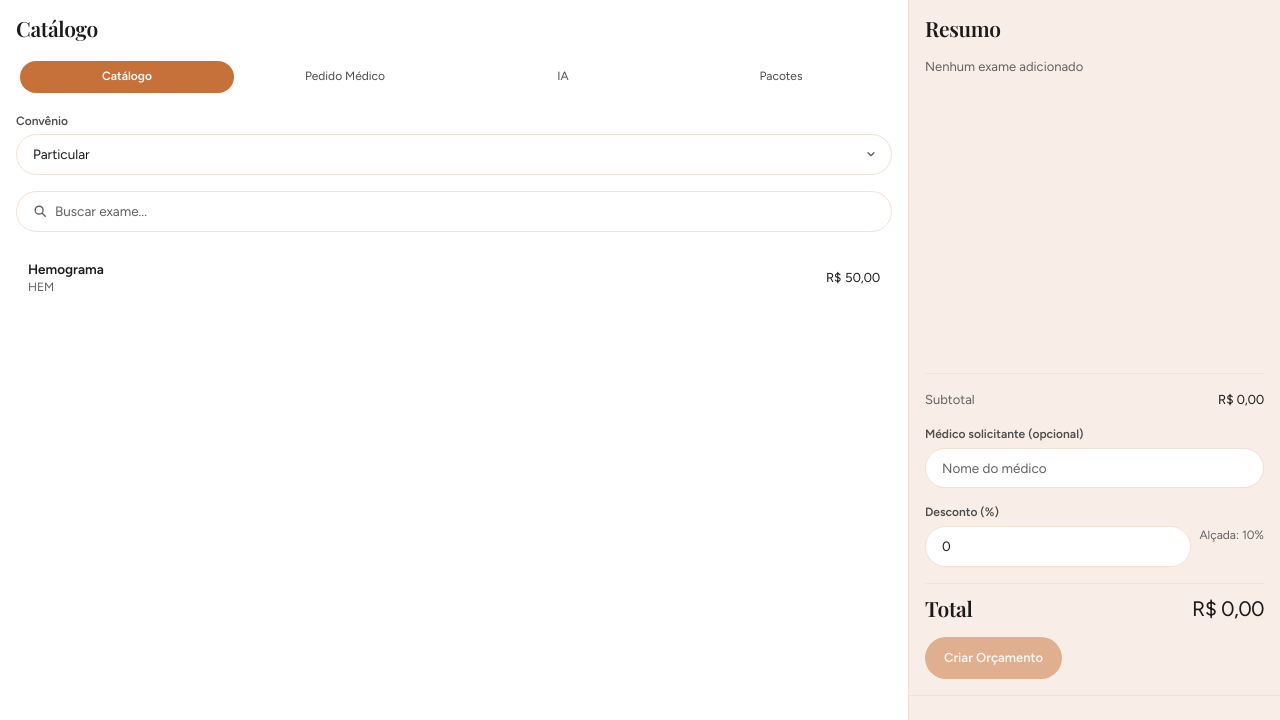
Test: BudgetNew › adicionar um pacote expande em N linhas no resumo — uma por exame incluído
What coordinates should you click on to do the following:
click the tab "Pacotes"
I would click on:
 (781, 77)
Its box is [674,61,888,93].
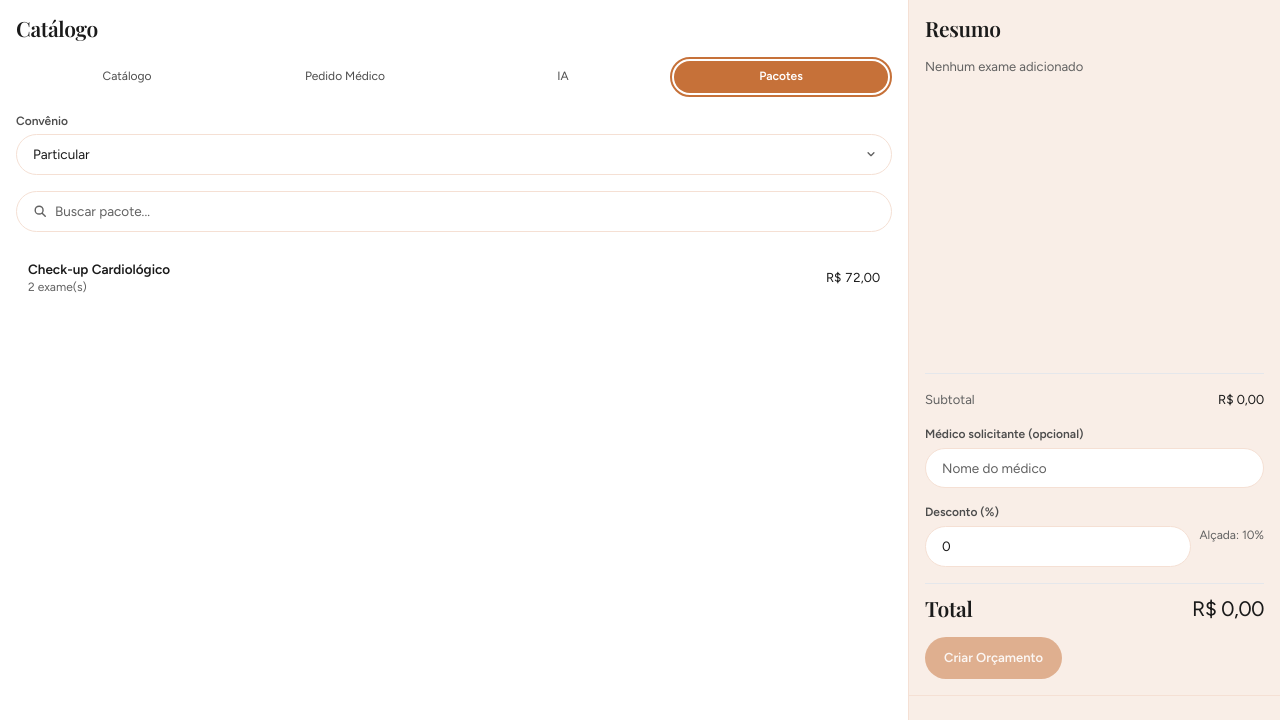
What coordinates should you click on to do the following:
click the button "Check-up Cardiológico 2 exame(s) R$ 72,00"
I would click on:
 (99, 269)
Its box is [16,248,892,308].
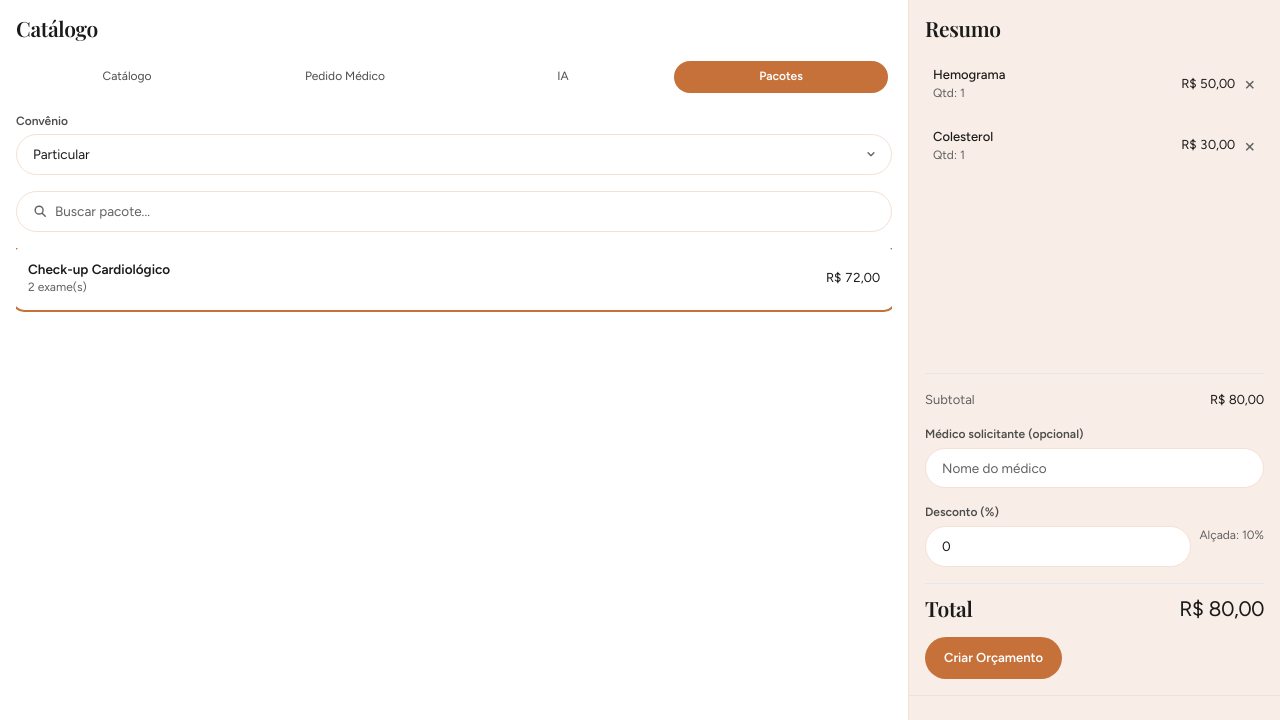
Result: the element with test id "summary-items" shows "Hemograma" at [933,67,1005,82]
Result: the element with test id "summary-items" shows "Colesterol" at [933,129,993,144]
